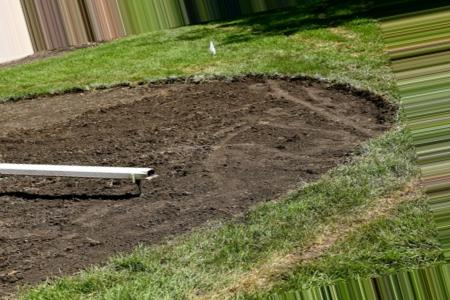patch: (11, 99, 332, 163), (12, 178, 138, 235)
